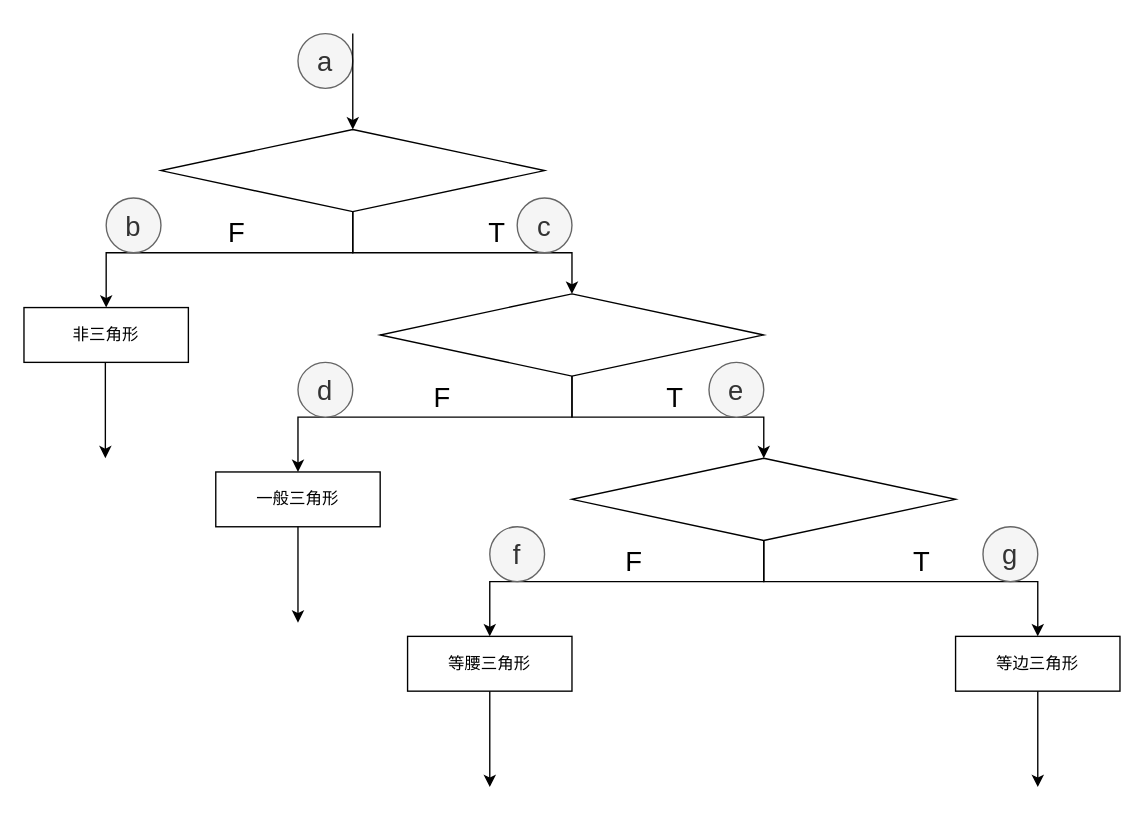
Image size: 1144x822. Some labels were removed from this diagram. Here are the shapes that lost their labels. From the top down, the centre of each, then its label:
At point 352,170: "a + b > c && a + c > b && b + c > a".
At point 571,334: "a == b || a == c || b == c".
At point 763,498: "a == b && a == c && b == c".
